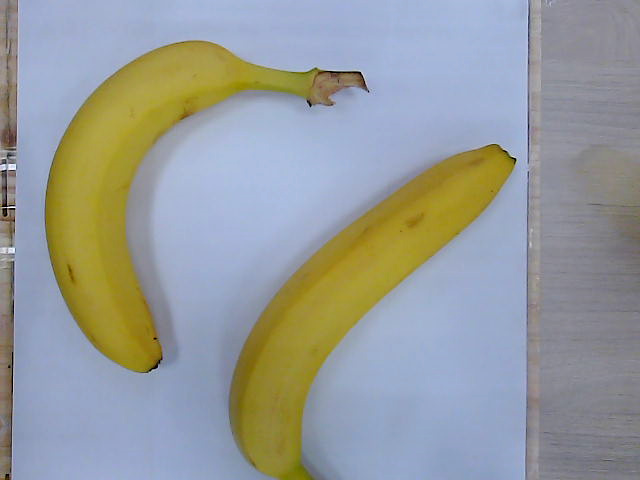fresh_banana: (43, 38, 368, 373), (228, 144, 516, 480)
